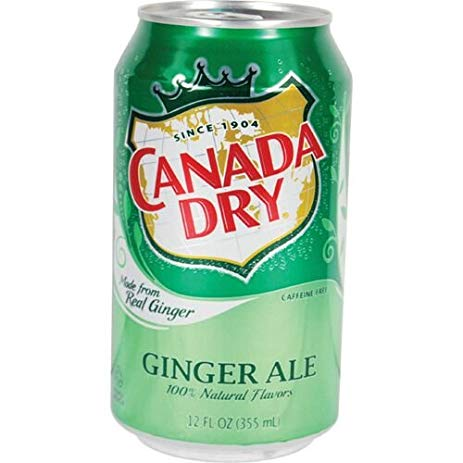Lata: (107, 1, 355, 460)
